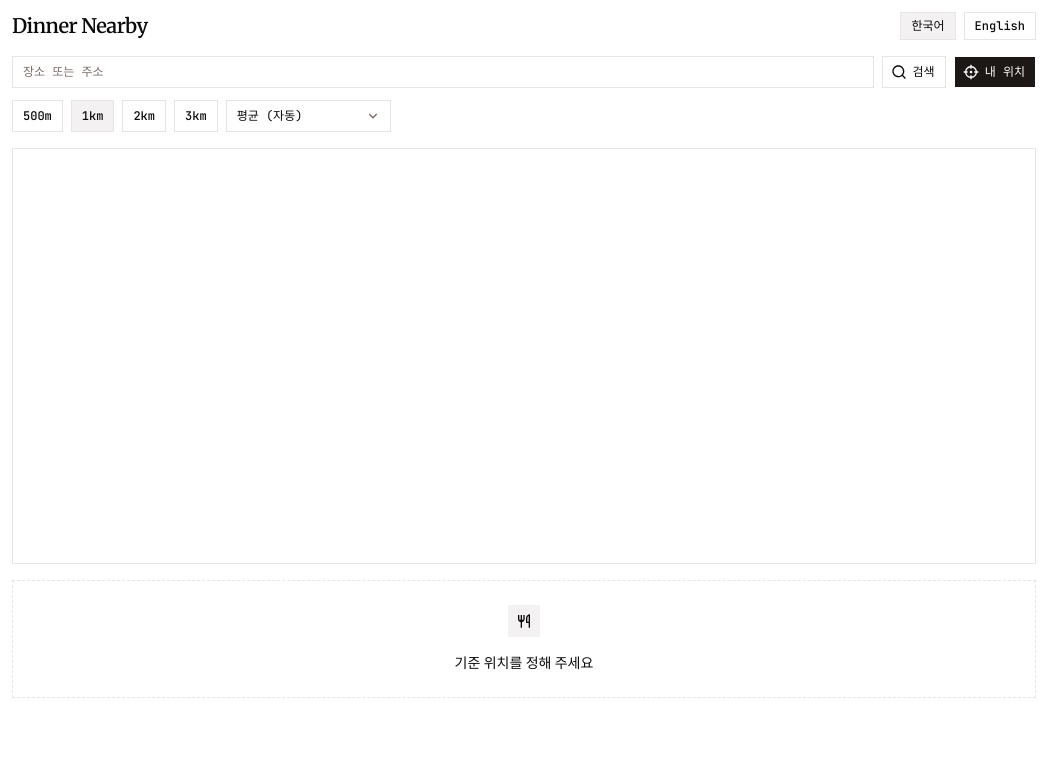
it: 연속으로 검색하면 마지막 선택의 결과만 화면에 남는다
Click the button "내 위치": {"x": 995, "y": 72} x1=954 y1=56 x2=1036 y2=88
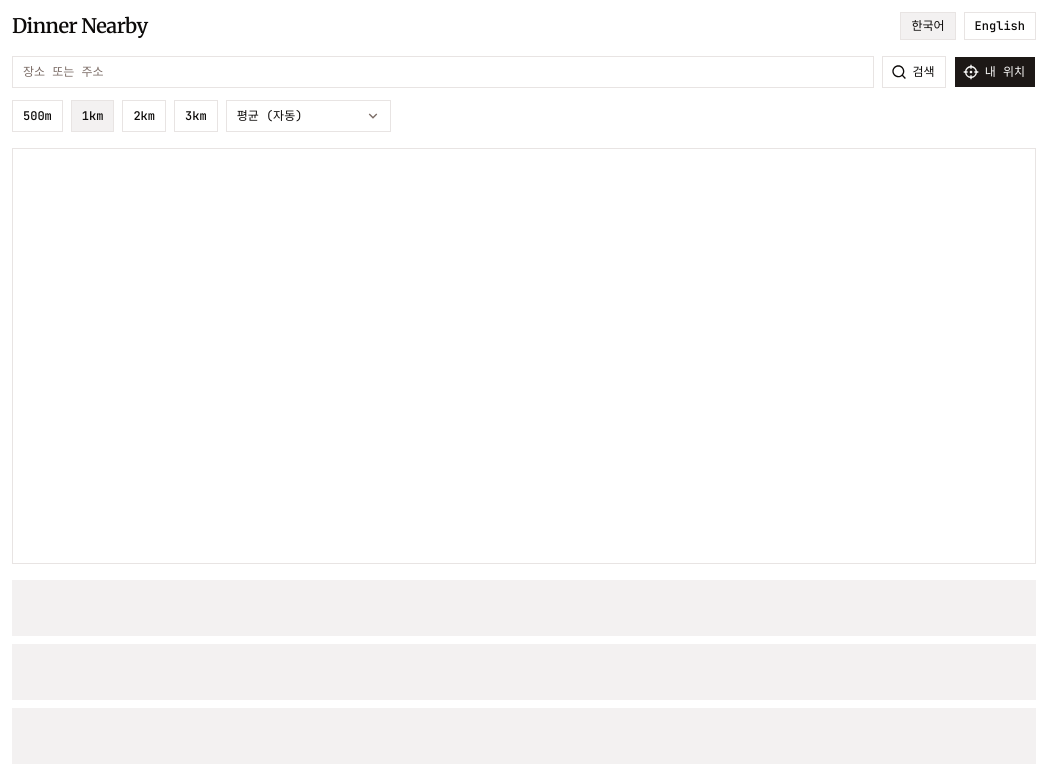
Click the button "2km": {"x": 144, "y": 116} x1=122 y1=100 x2=166 y2=132
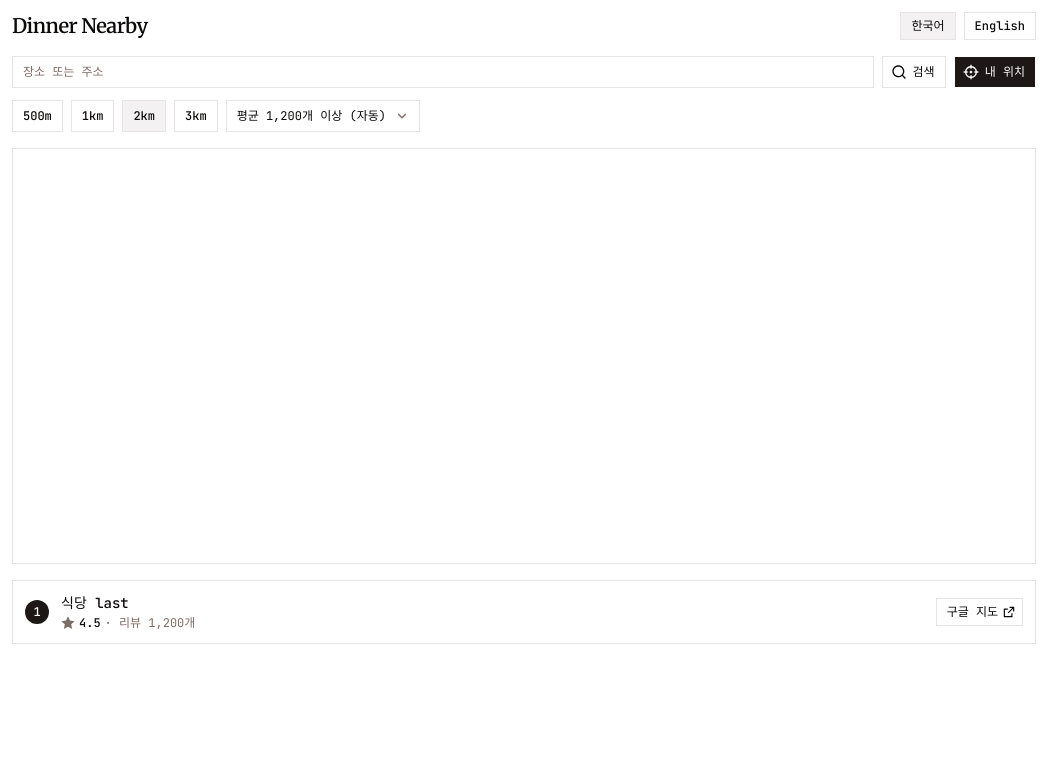
Check: the text "식당 last" is shown, box x1=61 y1=594 x2=129 y2=612
